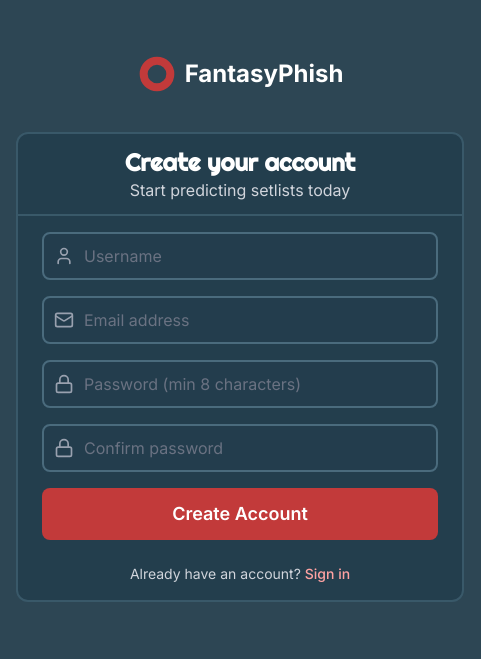
Scenario: RegisterClient › validates {"password":"short","confirm":"short"}
Type "alice_1" into the field labelled "Username" at [240, 256], box [42,232,438,280]
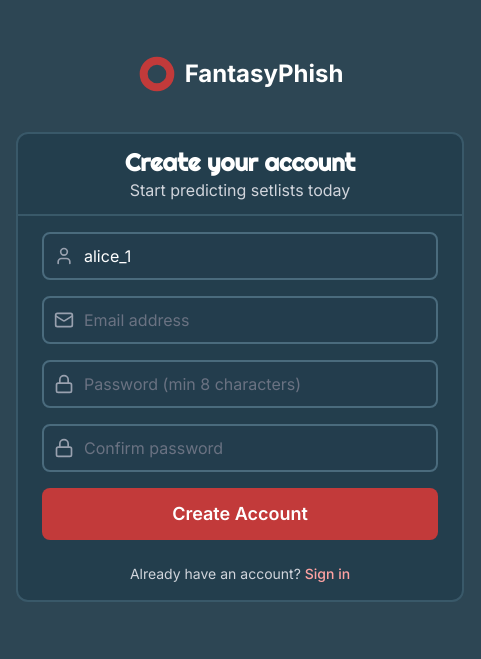
Type "a@b.com" into the field labelled "Email address" at [240, 320], box [42,296,438,344]
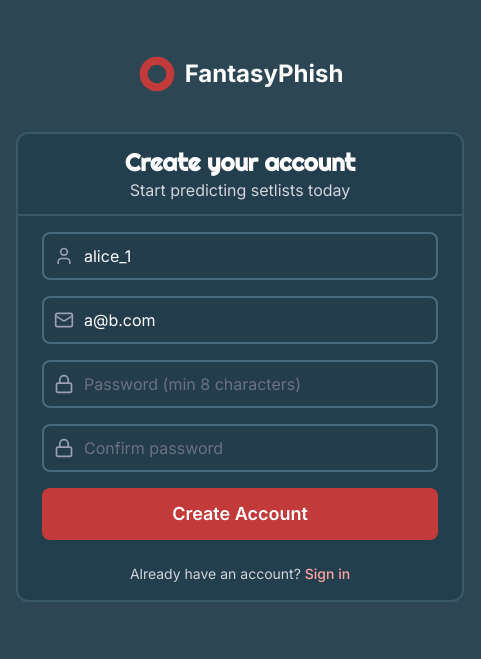
Type "short" into the password field named "Password (minimum 8 characters)" at [240, 384], box [42,360,438,408]
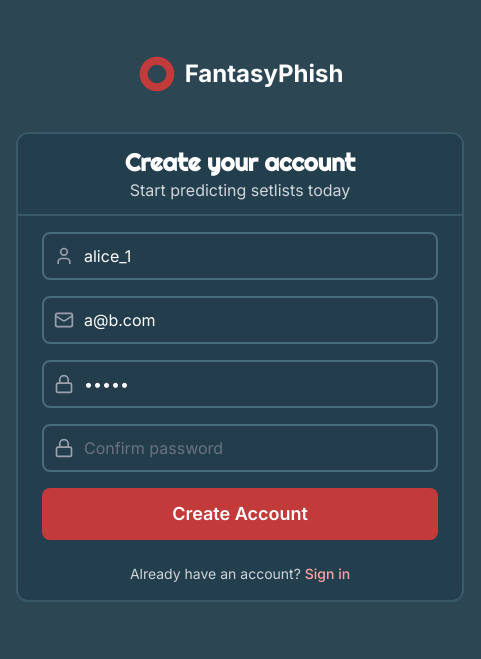
Type "short" into the password field labelled "Confirm password" at [240, 448], box [42,424,438,472]
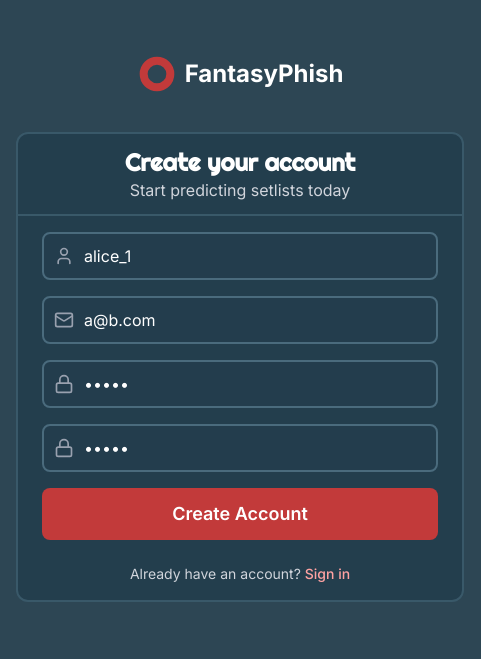
Click the button "Create Account" at [240, 514], box [42,488,438,540]
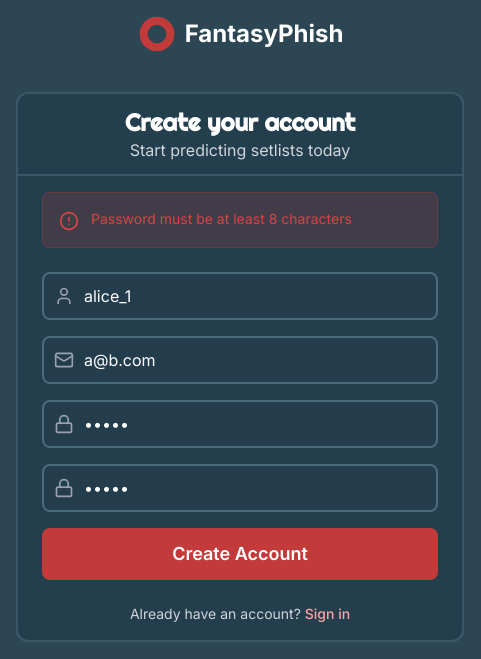
expect the message reads "Password must be at least 8 characters": met, box [91,210,352,227]
